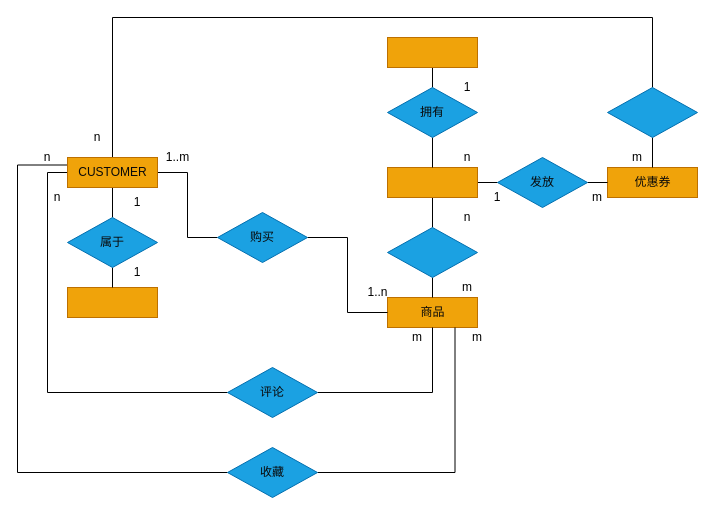
Some shapes in this 715 by 515 pixel diagram are drawn without their labels. Each missing label, with the centre of its shape:
"BUSINESS" belongs at pixel 432 52.
"售卖" belongs at pixel 432 252.
"店铺" belongs at pixel 432 182.
"购物车" belongs at pixel 112 302.
"领取" belongs at pixel 652 112.
